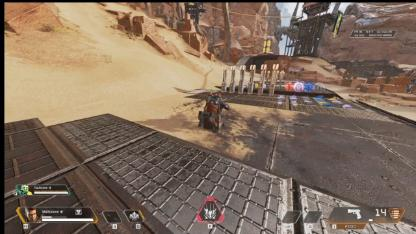Target: (198, 93, 223, 131)
